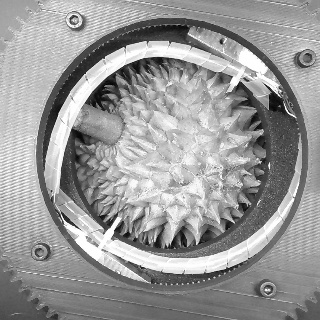base: (97, 109, 127, 149)
